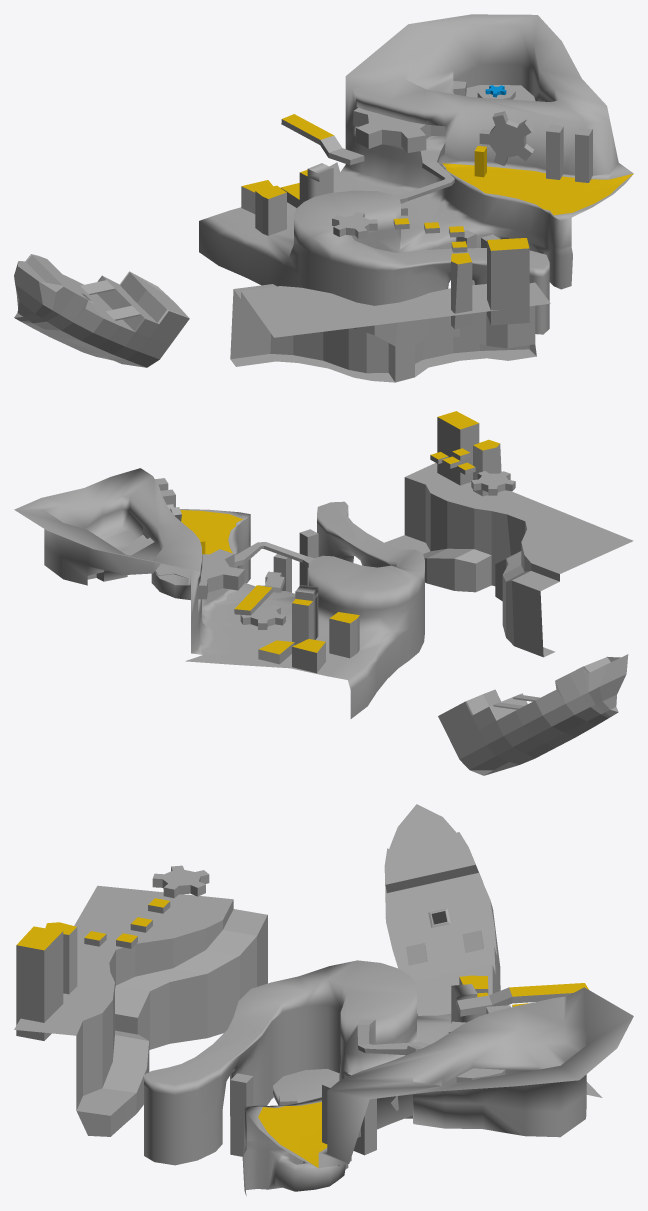
File: TESTBALOOGA.fbx
3 renders of one model, top to bottom at view 1: azimuth 30°, elevation 25°; view 2: azimuth 150°, elevation 25°; view 3: azimuth 270°, elevation 25°, orthographic. The views are drawn at different scales.
Parts seen in each view (by area): view 1: PolyShape_62_5, pCube47, pCube59, polySurface104, pCylinder15, pCylinder16, polySurface105, PolyShape_47_, PolyShape_49_, PolyShape_48_, pCube61, pCube60 (+3 smaller); view 2: PolyShape_62_5, pCube47, pCube59, polySurface104, pCylinder15, PolyShape_48_, PolyShape_47_, PolyShape_45_, polySurface105, PolyShape_49_, pCylinder17, pCylinder18 (+3 smaller); view 3: PolyShape_62_5, pCube47, pCube59, polySurface104, PolyShape_49_, pCube44, PolyShape_62_4, pCylinder17, polySurface105, polySurface106, pCube61, PolyShape_48_.
Boxes of the visible parts, x1=… form: PolyShape_62_5: x1=199, y1=14, x2=633, y2=334; pCube47: x1=230, y1=282, x2=550, y2=382; pCube59: x1=14, y1=254, x2=189, y2=367; polySurface104: x1=487, y1=238, x2=529, y2=325; pCylinder15: x1=353, y1=107, x2=445, y2=152; pCylinder16: x1=479, y1=111, x2=533, y2=165; polySurface105: x1=451, y1=253, x2=472, y2=329; PolyShape_47_: x1=255, y1=185, x2=286, y2=235; PolyShape_49_: x1=281, y1=114, x2=364, y2=165; PolyShape_48_: x1=299, y1=163, x2=333, y2=205; pCube61: x1=546, y1=124, x2=563, y2=179; pCube60: x1=575, y1=128, x2=592, y2=182; PolyShape_62_5: x1=14, y1=468, x2=424, y2=718; pCube47: x1=384, y1=463, x2=633, y2=657; pCube59: x1=438, y1=654, x2=628, y2=775; polySurface104: x1=437, y1=411, x2=479, y2=485; pCylinder15: x1=155, y1=549, x2=244, y2=599; PolyShape_48_: x1=292, y1=585, x2=318, y2=644; PolyShape_47_: x1=329, y1=612, x2=359, y2=658; PolyShape_45_: x1=292, y1=639, x2=325, y2=673; polySurface105: x1=473, y1=439, x2=501, y2=496; PolyShape_49_: x1=234, y1=575, x2=284, y2=615; pCylinder17: x1=471, y1=471, x2=515, y2=495; pCylinder18: x1=240, y1=605, x2=285, y2=629; PolyShape_62_5: x1=144, y1=960, x2=633, y2=1195; pCube47: x1=14, y1=885, x2=267, y2=1136; pCube59: x1=384, y1=804, x2=500, y2=1015; polySurface104: x1=16, y1=926, x2=63, y2=1040; PolyShape_49_: x1=457, y1=983, x2=588, y2=1016; pCube44: x1=230, y1=1073, x2=253, y2=1156; PolyShape_62_4: x1=273, y1=1069, x2=339, y2=1105; pCylinder17: x1=152, y1=865, x2=209, y2=898; polySurface105: x1=45, y1=922, x2=77, y2=994; polySurface106: x1=84, y1=898, x2=170, y2=948; pCube61: x1=347, y1=1068, x2=376, y2=1155; PolyShape_48_: x1=451, y1=984, x2=488, y2=1023.
Size of the model in its own units: 1.63 by 0.5488 by 1.23.
